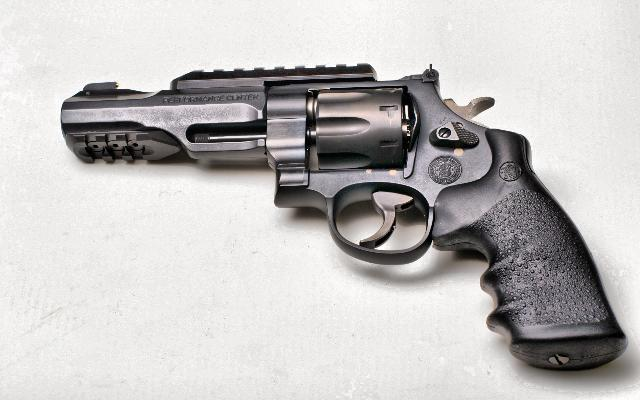pistol: (57, 58, 628, 376)
